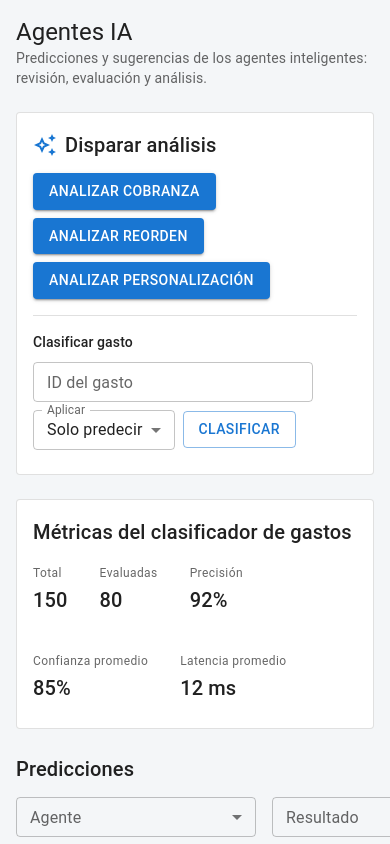
AgentesPage › valida el ID del gasto antes de clasificar
Click the button "Clasificar" at point(239, 430), box [182,411,296,448]
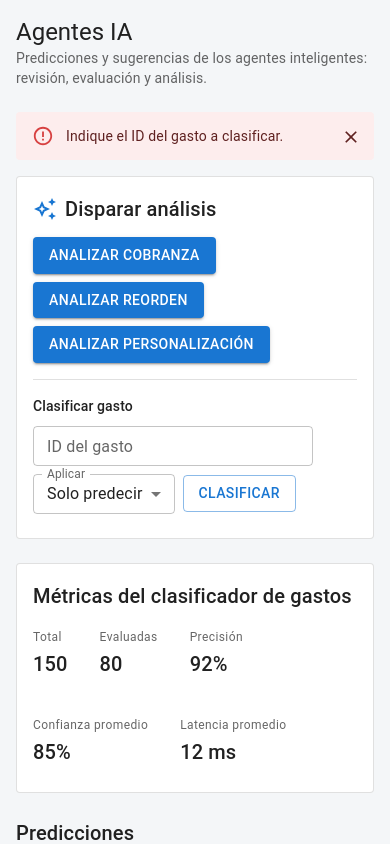
Check: the text "Indique el ID del gasto a clasificar." is shown, box [66,128,283,144]
